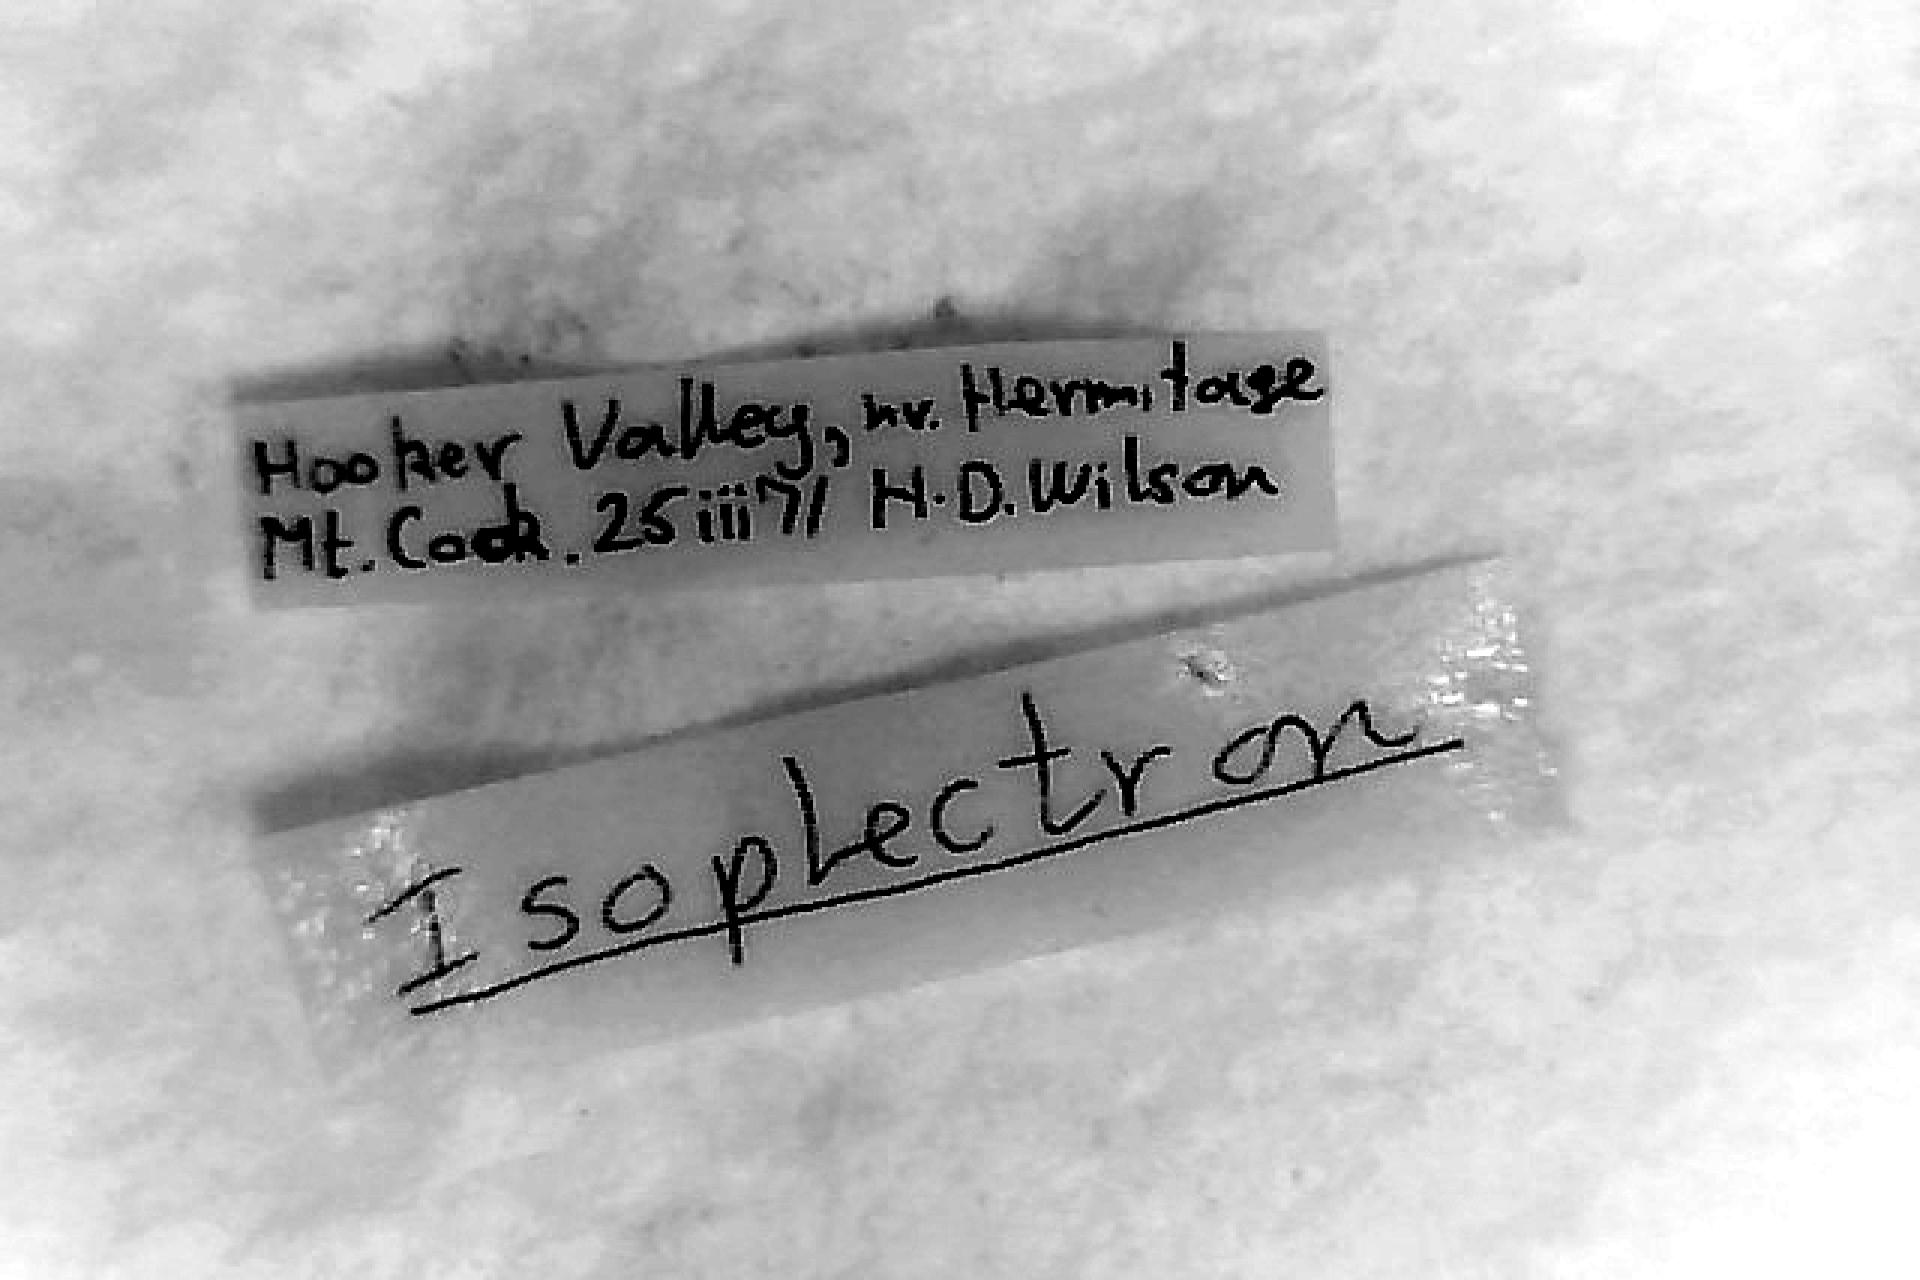hand_label: (259, 557, 1560, 1085), (242, 333, 1335, 605)
